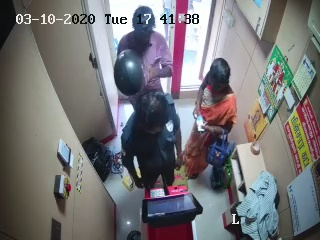helmet: (111, 46, 151, 97)
